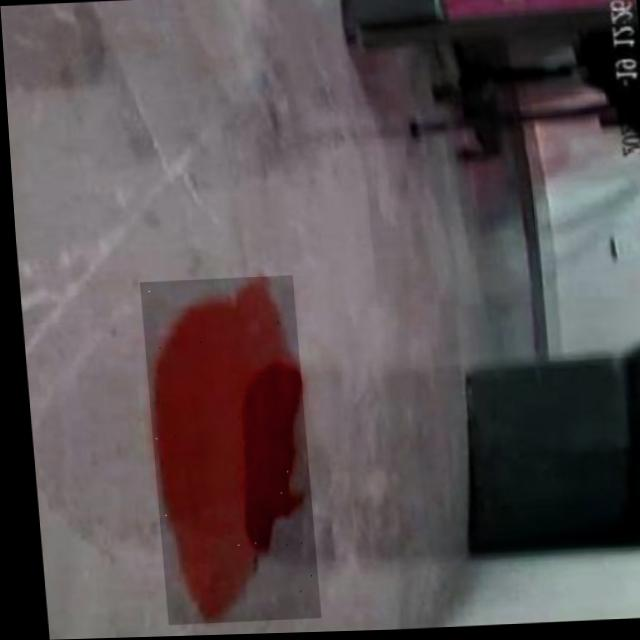spillage: (144, 279, 294, 623)
